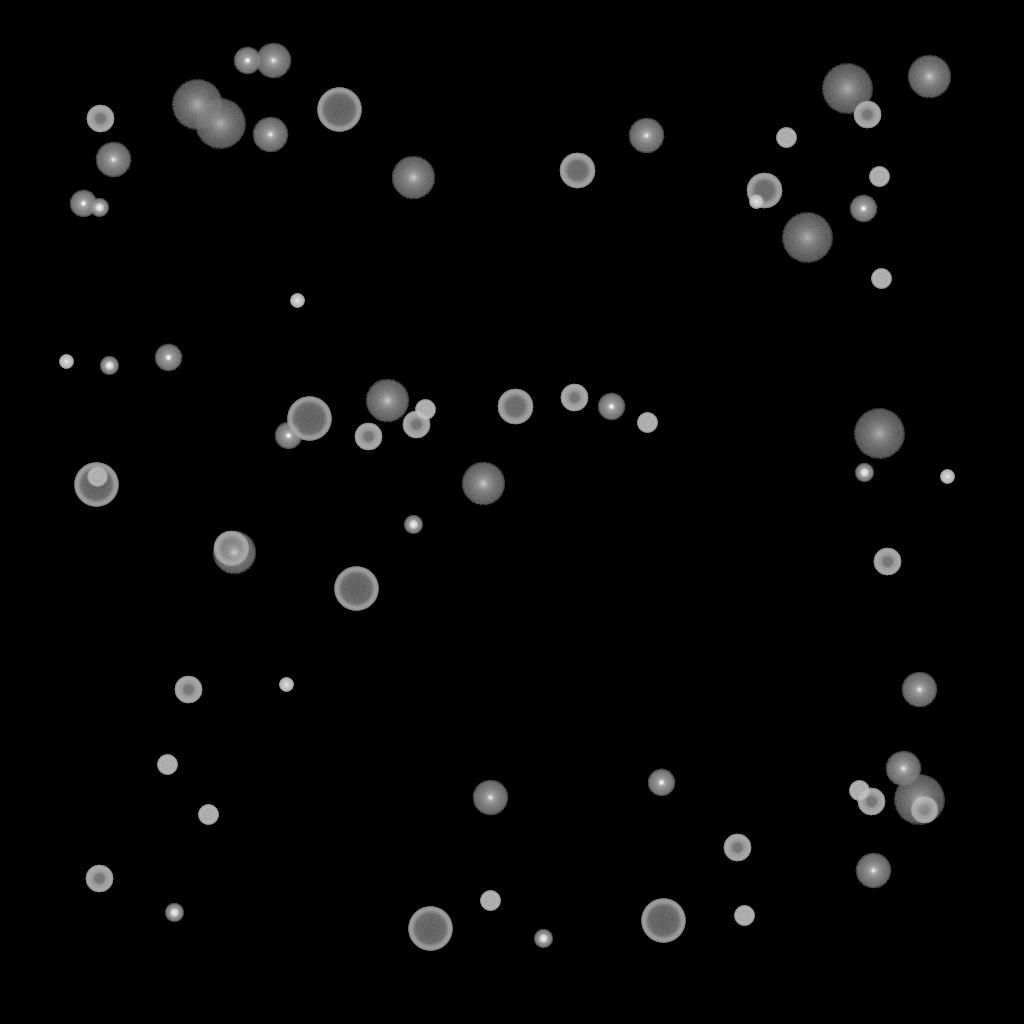depth:-10: (154, 344, 182, 372), (597, 393, 625, 421), (849, 195, 877, 223), (233, 47, 261, 75), (274, 422, 302, 450), (69, 190, 97, 218), (647, 769, 675, 797)
depth:-20: (404, 516, 422, 534), (90, 199, 108, 217), (165, 904, 183, 922), (100, 357, 118, 375), (855, 464, 873, 482), (534, 930, 552, 948)
depth:-30: (59, 355, 73, 369), (749, 195, 763, 209), (279, 678, 293, 692), (290, 294, 304, 308), (940, 470, 954, 484)
depth:-40: (849, 781, 869, 801), (157, 755, 177, 775), (415, 400, 435, 420), (198, 805, 218, 825), (869, 167, 889, 187), (734, 906, 754, 926), (637, 413, 657, 433), (87, 467, 107, 487), (480, 891, 500, 911), (776, 128, 796, 148), (871, 269, 891, 289)
depth:-50: (910, 796, 938, 824), (853, 101, 881, 129), (354, 423, 382, 451), (560, 384, 588, 412), (873, 548, 901, 576), (857, 788, 885, 816), (174, 676, 202, 704), (85, 865, 113, 893), (86, 105, 114, 133), (402, 411, 430, 439), (723, 834, 751, 862)
depth:-60: (213, 531, 249, 567), (497, 389, 533, 425), (559, 153, 595, 189), (746, 173, 782, 209)
depth:-70: (408, 907, 452, 951), (74, 463, 118, 507), (287, 397, 331, 441), (641, 899, 685, 943), (317, 88, 361, 132), (334, 567, 378, 611)
depth:0: (255, 43, 291, 79), (95, 142, 131, 178), (855, 853, 891, 889), (901, 672, 937, 708), (885, 751, 921, 787), (628, 118, 664, 154), (252, 117, 288, 153), (472, 780, 508, 816)
depth:10: (212, 531, 256, 575), (907, 55, 951, 99), (461, 462, 505, 506), (365, 379, 409, 423), (391, 156, 435, 200)
depth:20: (194, 99, 246, 149), (781, 213, 833, 263), (821, 64, 873, 114), (893, 775, 945, 825), (171, 80, 223, 130), (853, 409, 905, 459)
